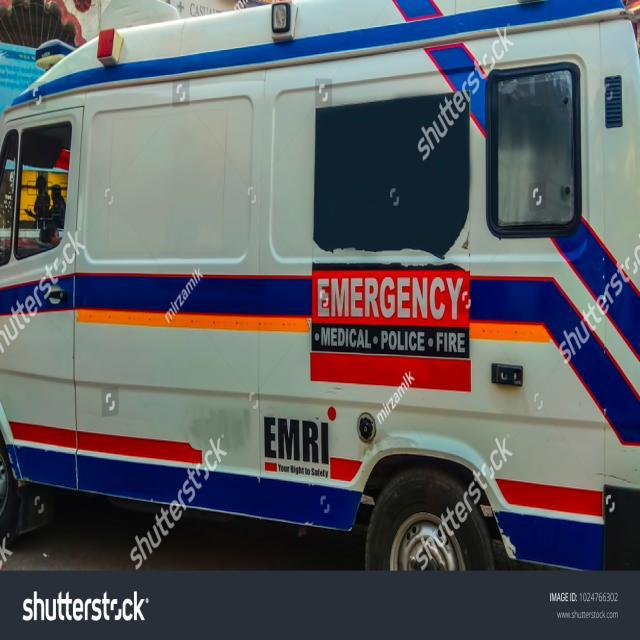ambulance: (0, 26, 636, 572)
